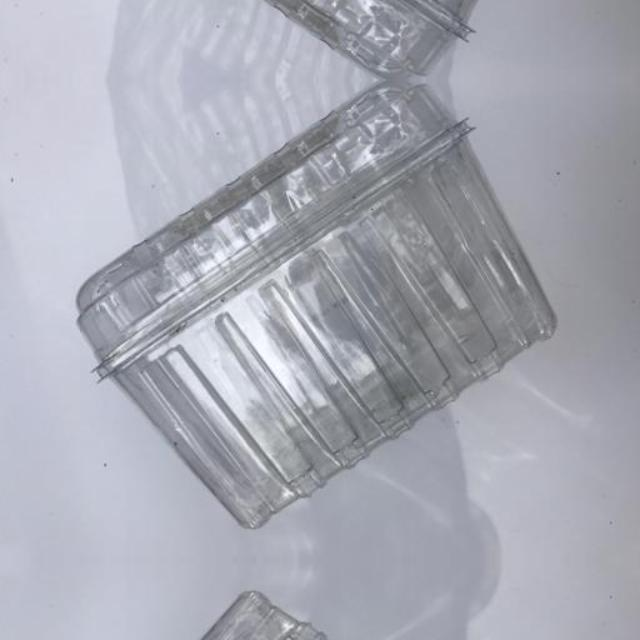Plastic: (71, 80, 584, 530), (70, 0, 583, 79), (70, 590, 583, 640)
